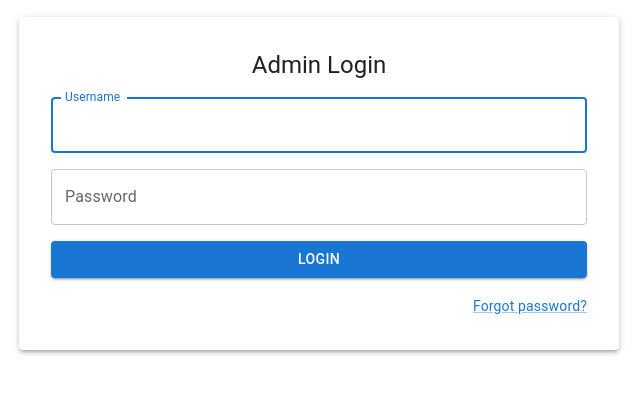
Scenario: AdminLogin Component › handles missing token in response
// Fill in the form
Type "admin" into the field labelled "Username" at (319, 125), box top-left (51, 97), bottom-right (587, 153)
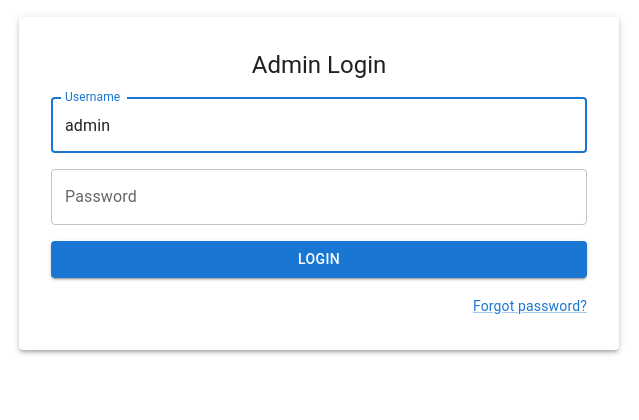
Type "password123" into the password field labelled "Password" at (319, 197), box top-left (51, 169), bottom-right (587, 225)
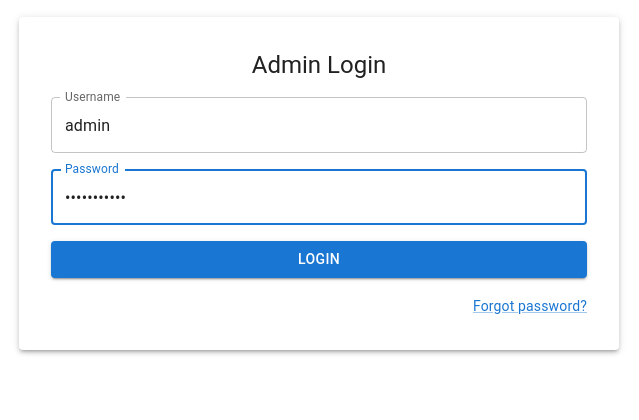
// Submit the form
Click the button "Login" at (319, 259), box top-left (51, 241), bottom-right (587, 278)
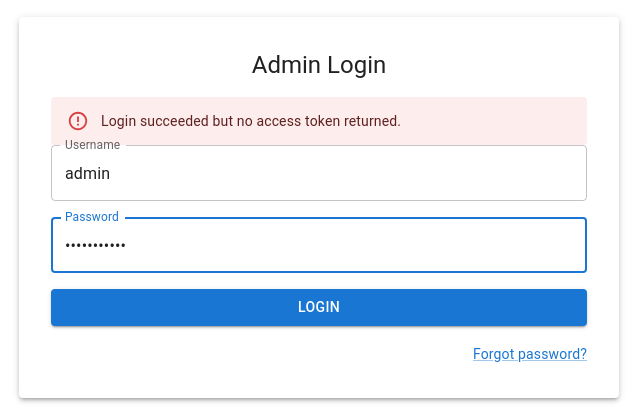
expect the text "Login succeeded but no access token returned." is shown: met, box top-left (101, 113), bottom-right (401, 129)
